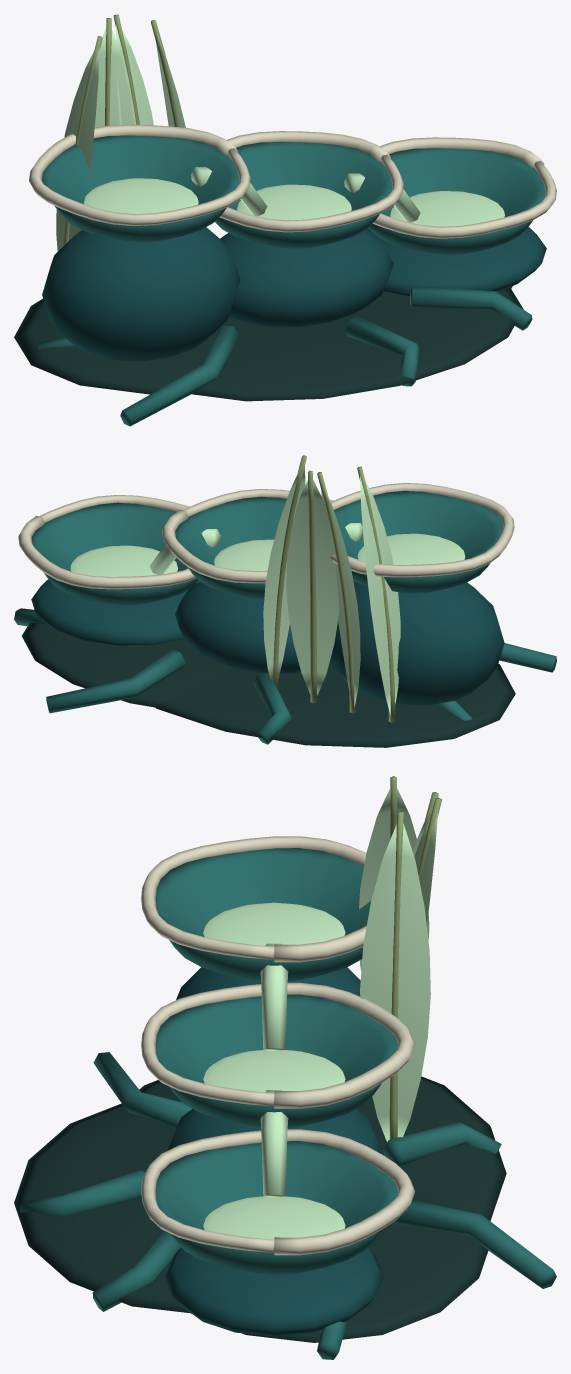
Rendered from building_channel_separator_a.obj.
3 views of the same model, one above another, from view 1: azimuth 30°, elevation 25°; view 2: azimuth 150°, elevation 25°; view 3: azimuth 270°, elevation 25° (orthographic). The views are drawn at different scales.
Parts seen in each view (by area): view 1: supporting_chamber.003, irregular_anchoring_lobe.062, supporting_chamber.004, open_living_cup.062, open_living_cup.064, open_living_cup.063, irregular_anchoring_lobe.060, supporting_chamber.005, grown_cup_lip.062, grown_cup_lip.064, grown_cup_lip.063, visible_cup_contents.062 (+15 smaller); view 2: irregular_anchoring_lobe.060, supporting_chamber.003, open_living_cup.062, open_living_cup.064, irregular_anchoring_lobe.061, bent_living_blade.061, supporting_chamber.004, supporting_chamber.005, open_living_cup.063, grown_cup_lip.064, bent_living_blade.059, grown_cup_lip.062 (+15 smaller); view 3: irregular_anchoring_lobe.062, open_living_cup.064, open_living_cup.063, open_living_cup.062, supporting_chamber.005, bent_living_blade.062, irregular_anchoring_lobe.061, irregular_anchoring_lobe.060, grown_cup_lip.064, grown_cup_lip.063, grown_cup_lip.062, visible_cup_contents.064 (+15 smaller).
Boxes of the visible parts, <box> form: supporting_chamber.003: <box>42,227,240,361</box>; irregular_anchoring_lobe.062: <box>191,288,523,401</box>; supporting_chamber.004: <box>220,229,393,327</box>; open_living_cup.062: <box>41,135,239,242</box>; open_living_cup.064: <box>368,148,545,255</box>; open_living_cup.063: <box>215,141,392,248</box>; irregular_anchoring_lobe.060: <box>14,298,256,394</box>; supporting_chamber.005: <box>379,227,546,295</box>; grown_cup_lip.062: <box>29,124,250,225</box>; grown_cup_lip.064: <box>373,137,556,238</box>; grown_cup_lip.063: <box>219,131,403,232</box>; visible_cup_contents.062: <box>84,178,198,213</box>; irregular_anchoring_lobe.060: <box>155,663,515,747</box>; supporting_chamber.003: <box>329,581,504,704</box>; open_living_cup.062: <box>334,491,502,594</box>; open_living_cup.064: <box>31,502,198,605</box>; irregular_anchoring_lobe.061: <box>22,623,230,707</box>; bent_living_blade.061: <box>286,479,339,695</box>; supporting_chamber.004: <box>175,582,300,673</box>; supporting_chamber.005: <box>31,579,187,645</box>; open_living_cup.063: <box>175,496,286,599</box>; grown_cup_lip.064: <box>18,495,195,589</box>; bent_living_blade.059: <box>360,476,400,715</box>; grown_cup_lip.062: <box>330,483,514,577</box>; irregular_anchoring_lobe.062: <box>14,1103,189,1312</box>; open_living_cup.064: <box>155,1141,398,1275</box>; open_living_cup.063: <box>155,994,398,1128</box>; open_living_cup.062: <box>155,848,370,981</box>; supporting_chamber.005: <box>165,1247,383,1336</box>; bent_living_blade.062: <box>360,823,430,1141</box>; irregular_anchoring_lobe.061: <box>190,1196,488,1342</box>; irregular_anchoring_lobe.060: <box>139,1076,506,1221</box>; grown_cup_lip.064: <box>141,1129,414,1255</box>; grown_cup_lip.063: <box>141,982,415,1108</box>; grown_cup_lip.062: <box>141,836,366,962</box>; visible_cup_contents.064: <box>203,1196,345,1239</box>.
Bounding box in the file's own units: 3.63 × 1.96 × 2.73.
